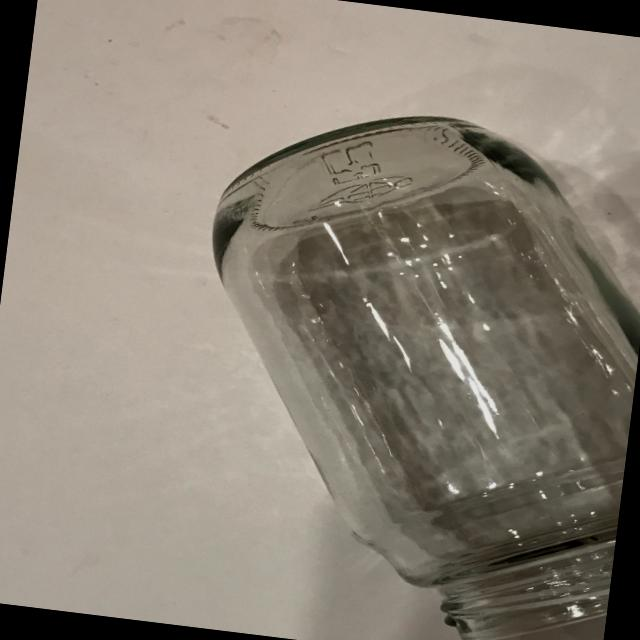Glass: (147, 77, 640, 640)
